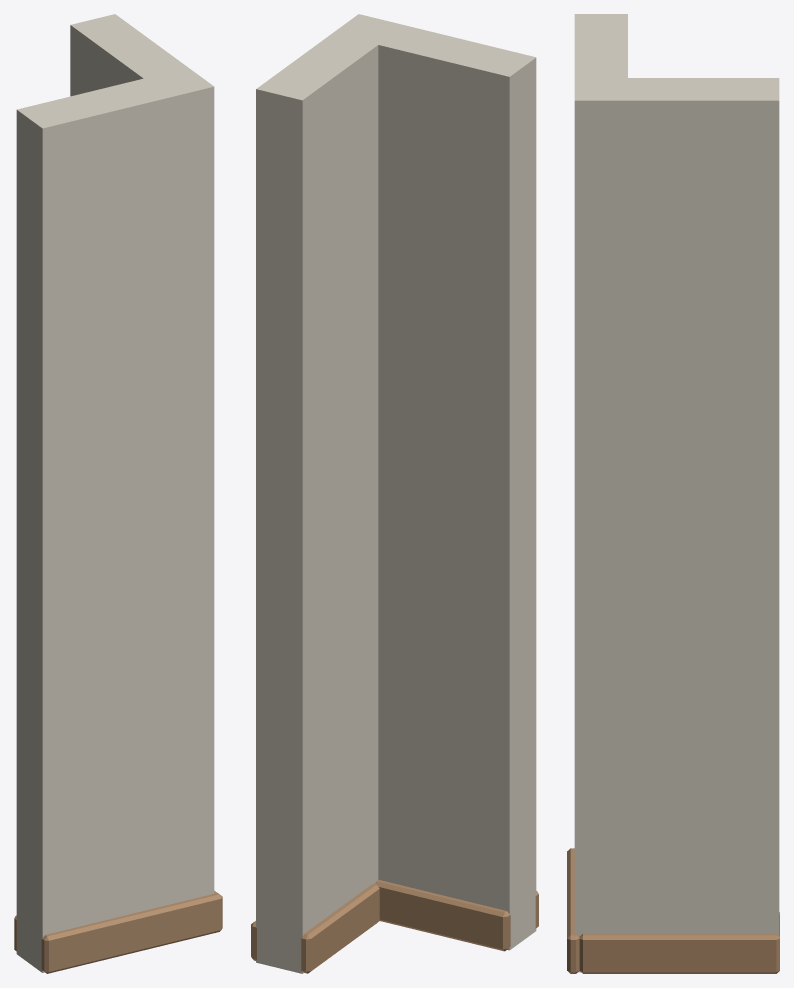
File: cozy-home-interiors-wall-corner-8d51f40a.glb
3 renders of one model, left to right at view 1: azimuth 30°, elevation 25°; view 2: azimuth 150°, elevation 25°; view 3: azimuth 270°, elevation 25°, orthographic. The views are drawn at different scales.
Parts seen in each view (by area): view 1: wall-corner; view 2: wall-corner; view 3: wall-corner.
Part boxes in pixels (bbox=[...]): wall-corner: bbox=[14, 14, 222, 973]; wall-corner: bbox=[251, 14, 538, 973]; wall-corner: bbox=[567, 14, 779, 973].
Size of the model in its own units: 0.5975 by 2.7 by 0.5975.
